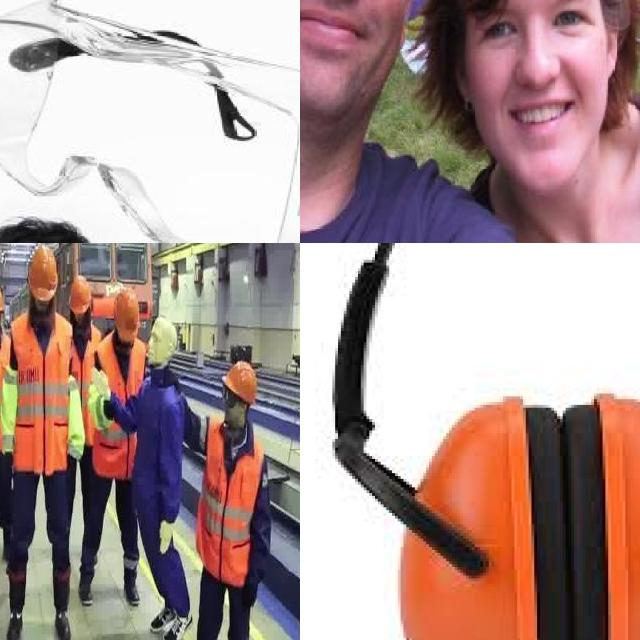Ear-protection: (392, 393, 562, 640), (562, 388, 640, 640)
boots: (114, 566, 147, 612), (142, 592, 180, 630), (162, 603, 194, 640)
face_nomask: (477, 0, 599, 153), (300, 0, 407, 87)
head_helmet: (28, 247, 58, 303), (220, 361, 258, 401), (114, 288, 140, 346), (68, 276, 92, 316)
vest: (196, 416, 265, 588), (11, 312, 71, 474), (95, 331, 147, 481), (70, 324, 100, 444), (0, 325, 12, 448)
